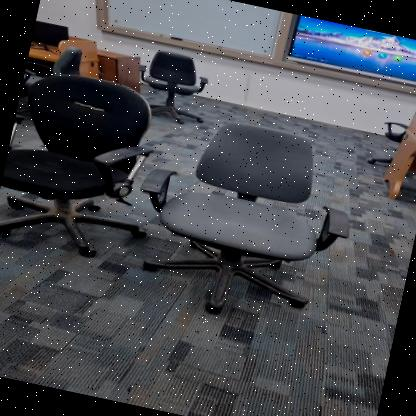chair: (114, 97, 374, 341), (0, 57, 166, 271)
